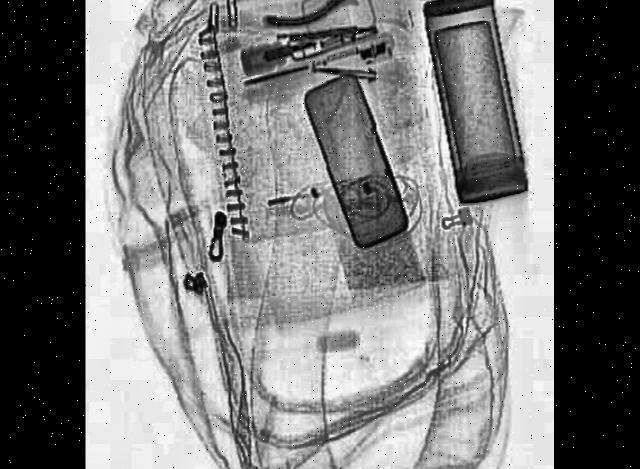Pliers: (263, 0, 421, 28)
